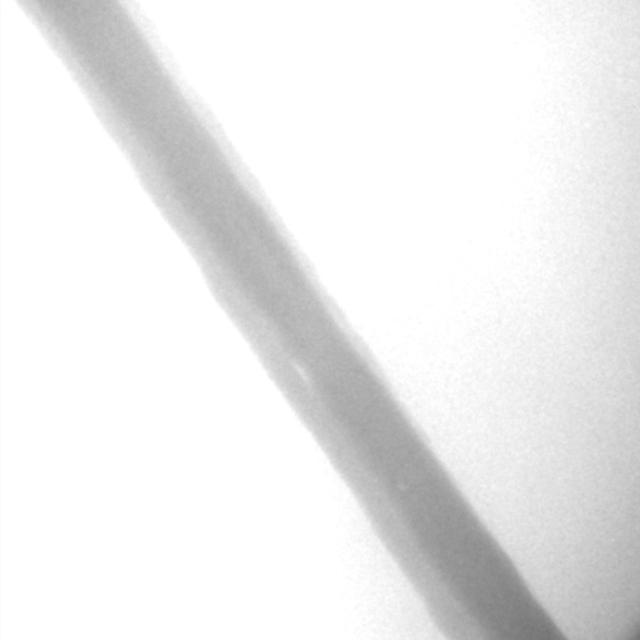air-hole: (296, 362, 311, 383), (400, 487, 406, 492)
broken-arc: (482, 528, 566, 640)
